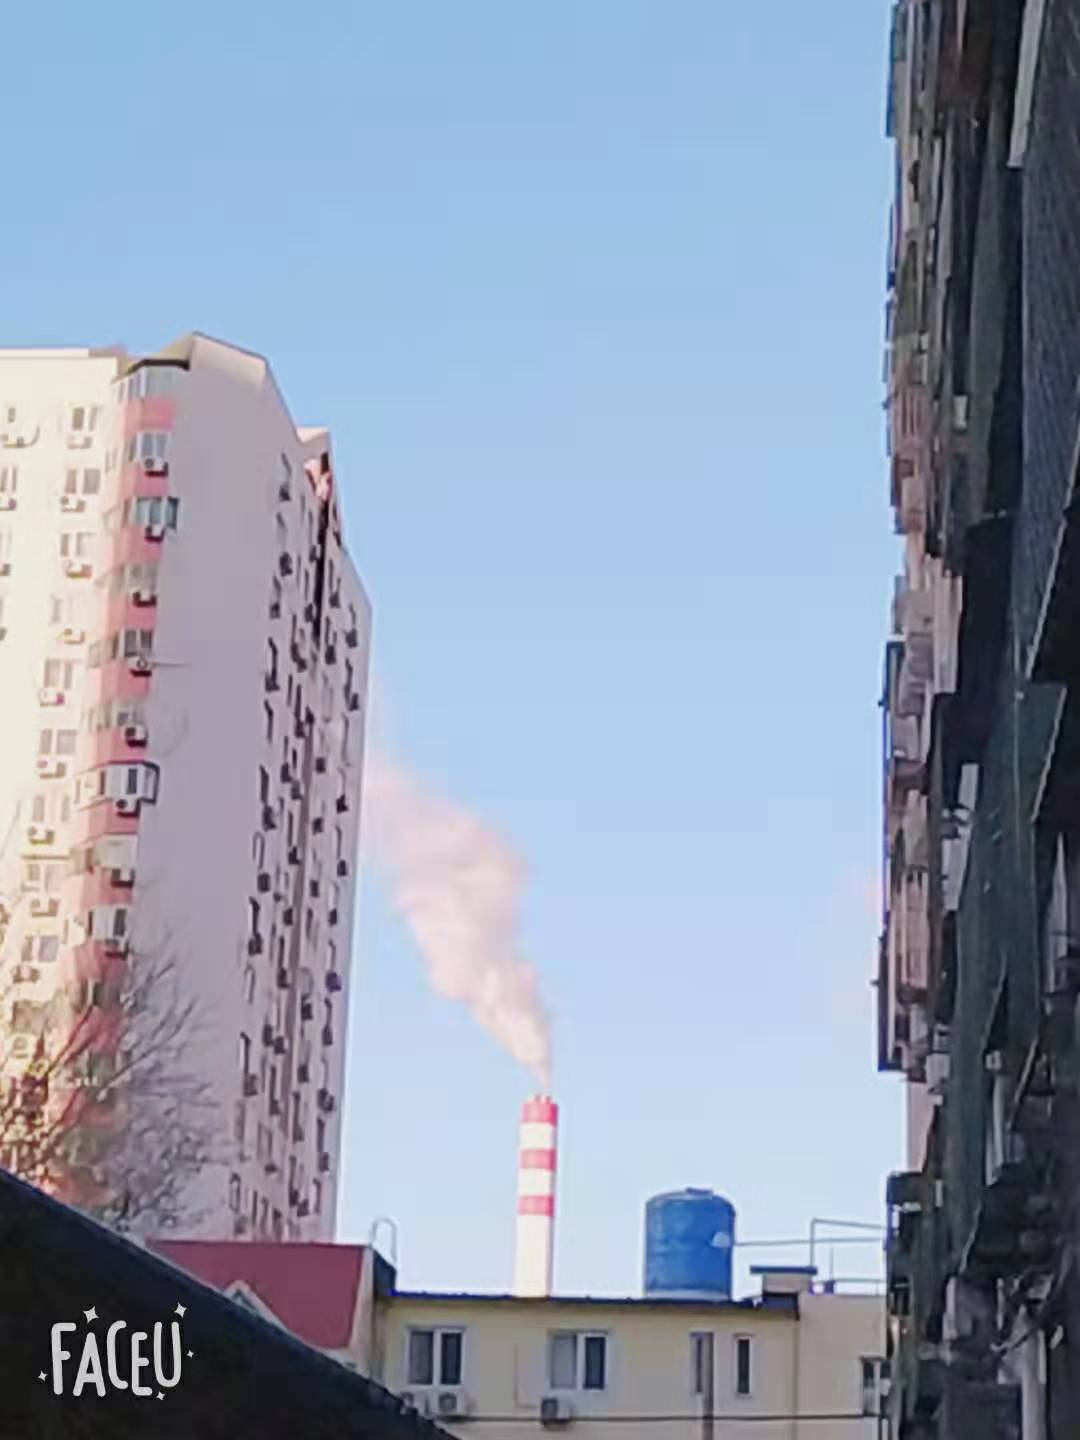yanwu: (361, 755, 547, 1082)
